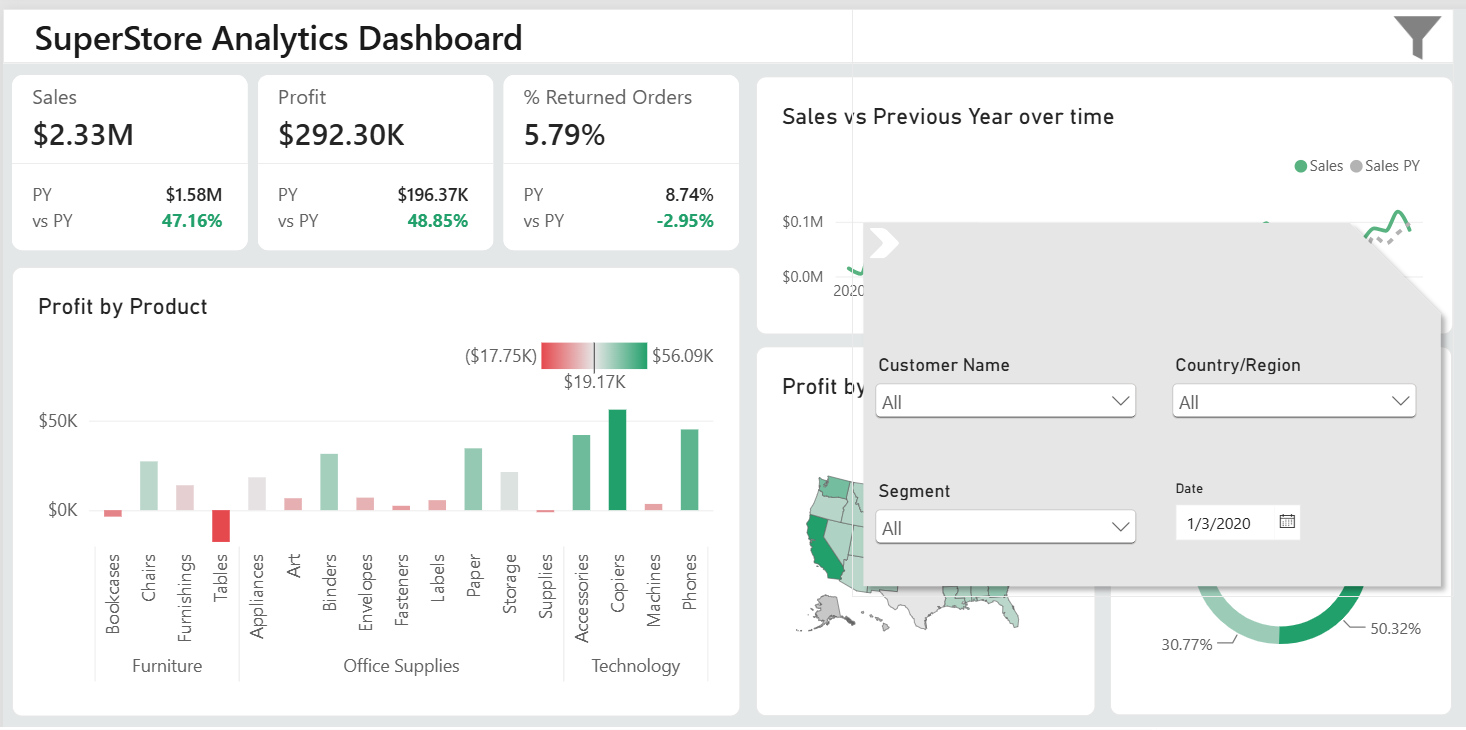

Layout of this report page (visuals, bound fields, positions):
{"tool":"powerbi","page":{"name":"Page 1","canvas":[1920,1080],"ordinal":0},"visuals":[{"type":"image","box":[1096.7,0,52.9,45.7],"z":0,"group":"g1"},{"type":"cardVisual","fields":{"Data":["Key Measures.Sales","Key Measures.Profit","Key Measures.% Returned Orders"]},"box":[7.7,52.9,577.9,139.4],"z":0},{"type":"shape","box":[0,0,1150.6,43.2],"z":1000},{"type":"lineChart","title":"Sales vs Previous Year over time","fields":{"Category":["Date Table.Start of month"],"Y":["Key Measures.Sales","Key Measures.Sales PY"]},"box":[597.5,53.1,553.1,204.9],"z":2000},{"type":"columnChart","title":"Profit by Product","fields":{"Category":["Orders.Category","Orders.Sub-Category"],"Y":["Key Measures.Profit"]},"box":[7.7,204.8,577.9,356.7],"z":3000},{"type":"shapeMap","title":"Profit by State","fields":{"Category":["Orders.State/Province"],"Value":["Key Measures.Profit"]},"box":[598.1,268.3,269.2,293.3],"z":4000},{"type":"donutChart","title":"Sales by Segment","fields":{"Category":["Orders.Segment"],"Y":["Key Measures.Sales"]},"box":[879,267.9,271.6,292.6],"z":5000},{"type":"group","id":"g1","title":"Group 1","box":[674.1,0,476.5,466.7],"z":6000}]}

Visuals, with their boxes on the page's 1920x1080 design canvas (x1, y1, x2, y2). These are canvas units, not pixel positions in the 1466x730 screenshot, which may show the page scaled, cropped or inside an application window:
image: {"x1": 1097, "y1": 0, "x2": 1150, "y2": 46}
cardVisual - Key Measures.Sales x Key Measures.Profit: {"x1": 8, "y1": 53, "x2": 586, "y2": 192}
shape: {"x1": 0, "y1": 0, "x2": 1151, "y2": 43}
"Sales vs Previous Year over time" lineChart: {"x1": 598, "y1": 53, "x2": 1151, "y2": 258}
"Profit by Product" columnChart: {"x1": 8, "y1": 205, "x2": 586, "y2": 562}
"Profit by State" shapeMap: {"x1": 598, "y1": 268, "x2": 867, "y2": 562}
"Sales by Segment" donutChart: {"x1": 879, "y1": 268, "x2": 1151, "y2": 560}
"Group 1" group: {"x1": 674, "y1": 0, "x2": 1151, "y2": 467}
